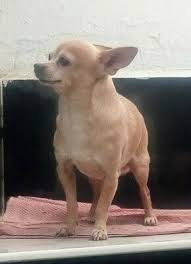chihuahua: (22, 35, 173, 240)
